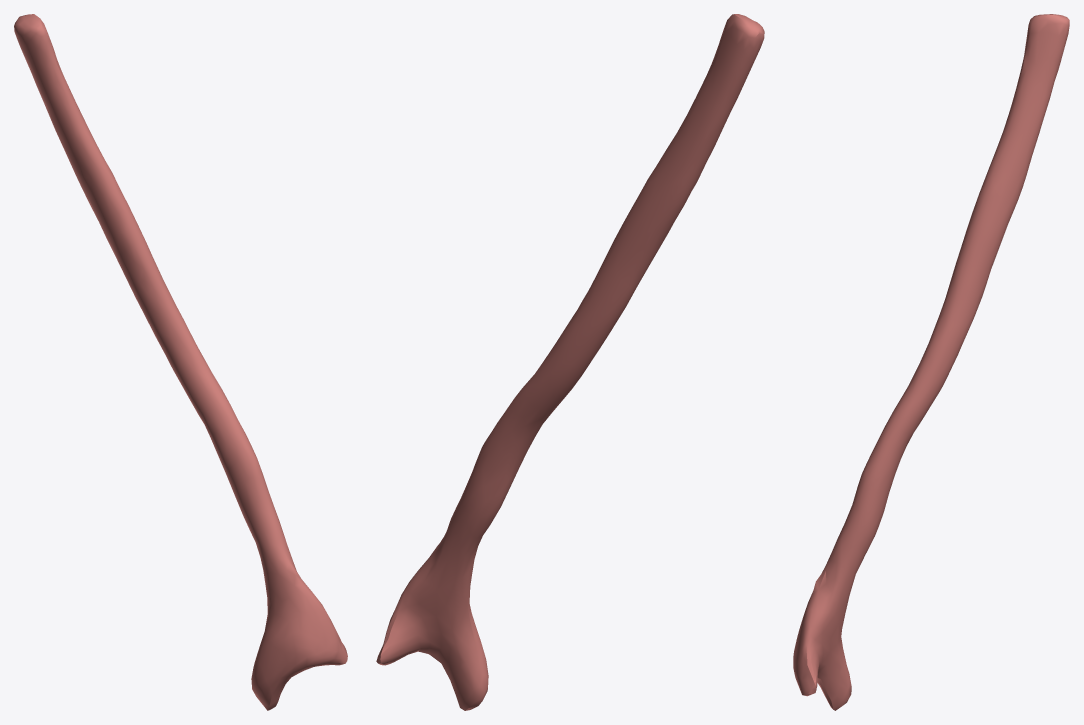
File: fma63414_mm1964m.glb
3 views of the same model, side by side, from view 1: azimuth 30°, elevation 25°; view 2: azimuth 210°, elevation 25°; view 3: azimuth 270°, elevation 25° (orthographic). The views are drawn at different scales.
Parts seen in each view (by area): view 1: FMA63414_MM1964M; view 2: FMA63414_MM1964M; view 3: FMA63414_MM1964M.
Boxes of the visible parts, <box> form: FMA63414_MM1964M: <box>14,14,347,710</box>; FMA63414_MM1964M: <box>376,14,764,710</box>; FMA63414_MM1964M: <box>793,14,1069,710</box>.
Bounding box in the file's own units: 0.0357 × 0.1062 × 0.0419.
